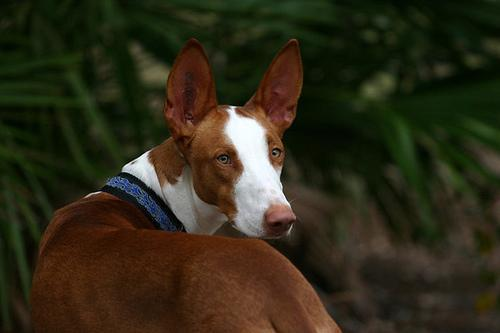Ibizan_hound: (33, 36, 343, 332)
